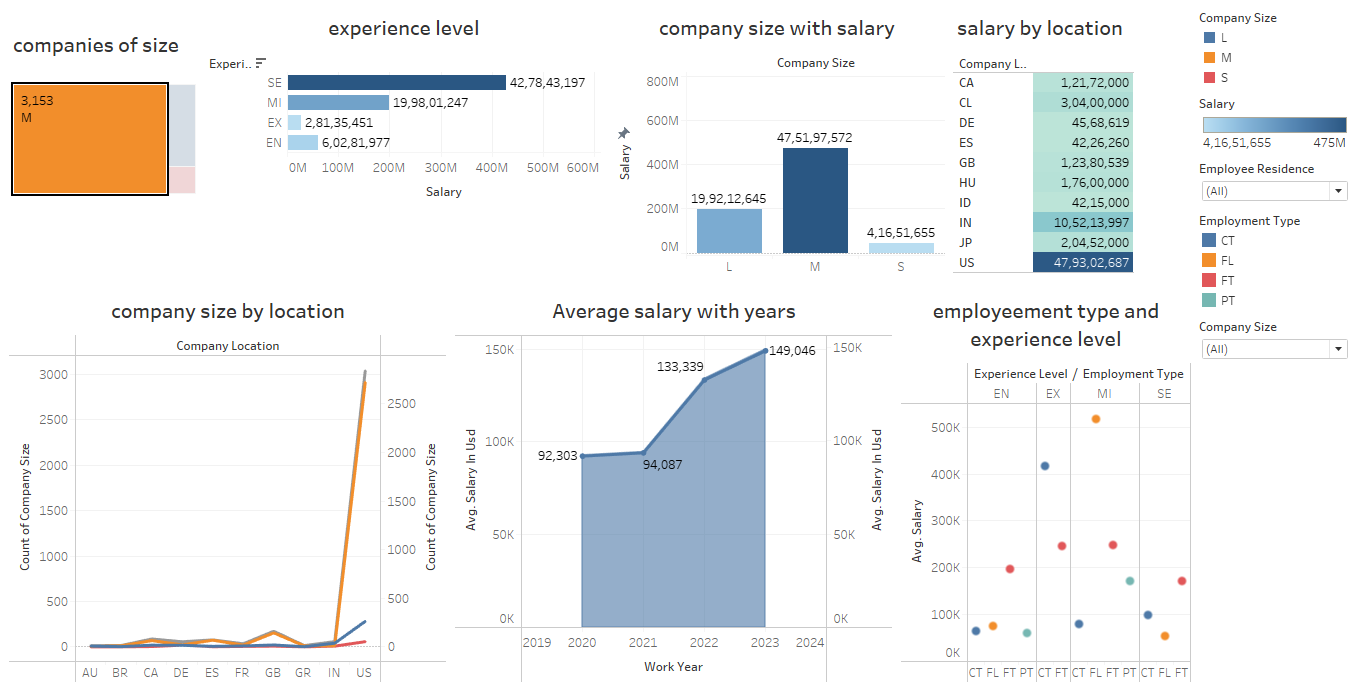

Layout of this report page (visuals, bound fields, positions):
{"tool":"tableau","page":{"name":"Dashboard 1","canvas":[1000,1000],"units":"permille","ordinal":0},"visuals":[{"type":"worksheet","title":"companies of size","mark":"Square","box":[6,14.3,144.5,403.6]},{"type":"worksheet","title":"experience level","mark":"Automatic","rows":["experience_level"],"cols":["salary"],"box":[150.5,14.3,292.8,403.6]},{"type":"worksheet","title":"company size and their salary level","mark":"Automatic","rows":["salary"],"cols":["company_size"],"box":[443.3,14.3,250.8,403.6]},{"type":"worksheet","title":"salary by location","mark":"Square","rows":["company_location"],"box":[694.1,14.3,179,403.6]},{"type":"legend","title":"companies of size","param":"[federated.1jd9is80l61ftz10ejsyx0n1j3ep].[none:company_size:nk]","box":[873.1,14.3,120.9,153.6]},{"type":"legend","title":"company size and their salary level","param":"[federated.1jd9is80l61ftz10ejsyx0n1j3ep].[sum:salary:qk]","box":[873.1,167.9,120.9,116.1]},{"type":"filter","title":"employeement type and experience level","param":"[federated.1jd9is80l61ftz10ejsyx0n1j3ep].[none:employee_residence:nk]","box":[873.1,283.9,120.9,92.9]},{"type":"legend","title":"employeement type and experience level","param":"[federated.1jd9is80l61ftz10ejsyx0n1j3ep].[none:employment_type:nk]","box":[873.1,376.8,120.9,189.3]},{"type":"worksheet","title":"company size by location","mark":"Line","rows":["company_size","company_size"],"cols":["company_location"],"box":[6,417.8,325.1,567.9]},{"type":"worksheet","title":"Average salary with year","mark":"Automatic","rows":["salary_in_usd","salary_in_usd"],"cols":["work_year"],"box":[331.2,417.8,325.2,567.9]},{"type":"worksheet","title":"employeement type and experience level","mark":"Circle","rows":["salary"],"cols":["experience_level","employment_type"],"box":[656.3,417.8,216.8,567.9]},{"type":"filter","title":"company size by location","param":"[federated.1jd9is80l61ftz10ejsyx0n1j3ep].[none:company_size:nk]","box":[873.1,566.1,120.9,92.9]}]}

Visuals, with their boxes on the dashboard's canvas, which has no fixed pixel size, in thousandths of its width and height (x1, y1, x2, y2). These are canvas units, not pixel positions in the 1362x683 screenshot, which may show the page scaled, cropped or inside an application window:
"companies of size" worksheet (Square marks): x1=6, y1=14, x2=150, y2=418
"experience level" worksheet: x1=150, y1=14, x2=443, y2=418
"company size and their salary level" worksheet: x1=443, y1=14, x2=694, y2=418
"salary by location" worksheet (Square marks): x1=694, y1=14, x2=873, y2=418
"companies of size" legend: x1=873, y1=14, x2=994, y2=168
"company size and their salary level" legend: x1=873, y1=168, x2=994, y2=284
"employeement type and experience level" filter: x1=873, y1=284, x2=994, y2=377
"employeement type and experience level" legend: x1=873, y1=377, x2=994, y2=566
"company size by location" worksheet (Line marks): x1=6, y1=418, x2=331, y2=986
"Average salary with year" worksheet: x1=331, y1=418, x2=656, y2=986
"employeement type and experience level" worksheet (Circle marks): x1=656, y1=418, x2=873, y2=986
"company size by location" filter: x1=873, y1=566, x2=994, y2=659
